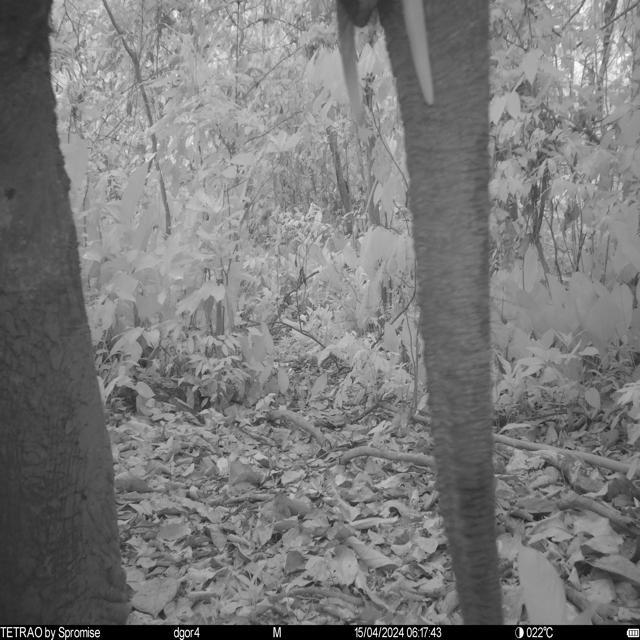elephant: (1, 0, 506, 627)
tusk: (336, 2, 364, 126), (403, 0, 434, 107)
